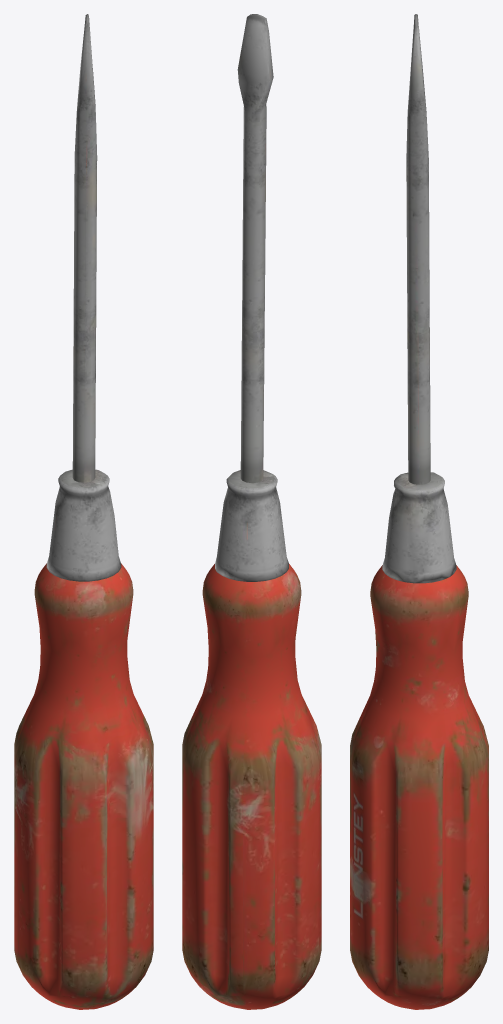
The model's file is screwdriver.glb.
3 renders of one model, left to right at view 1: azimuth 90°, elevation 25°; view 2: azimuth 150°, elevation 25°; view 3: azimuth 270°, elevation 25°, orthographic.
Visible parts, largest first — view 1: screwdriver; view 2: screwdriver; view 3: screwdriver.
Boxes of the visible parts, x1,y1,x2,y2 form: screwdriver: (14, 14, 153, 1009); screwdriver: (182, 14, 321, 1009); screwdriver: (350, 14, 488, 1009).
Bounding box in the file's own units: 0.0271 × 0.209 × 0.0267.
Materials: 1 (1 with a texture image).
